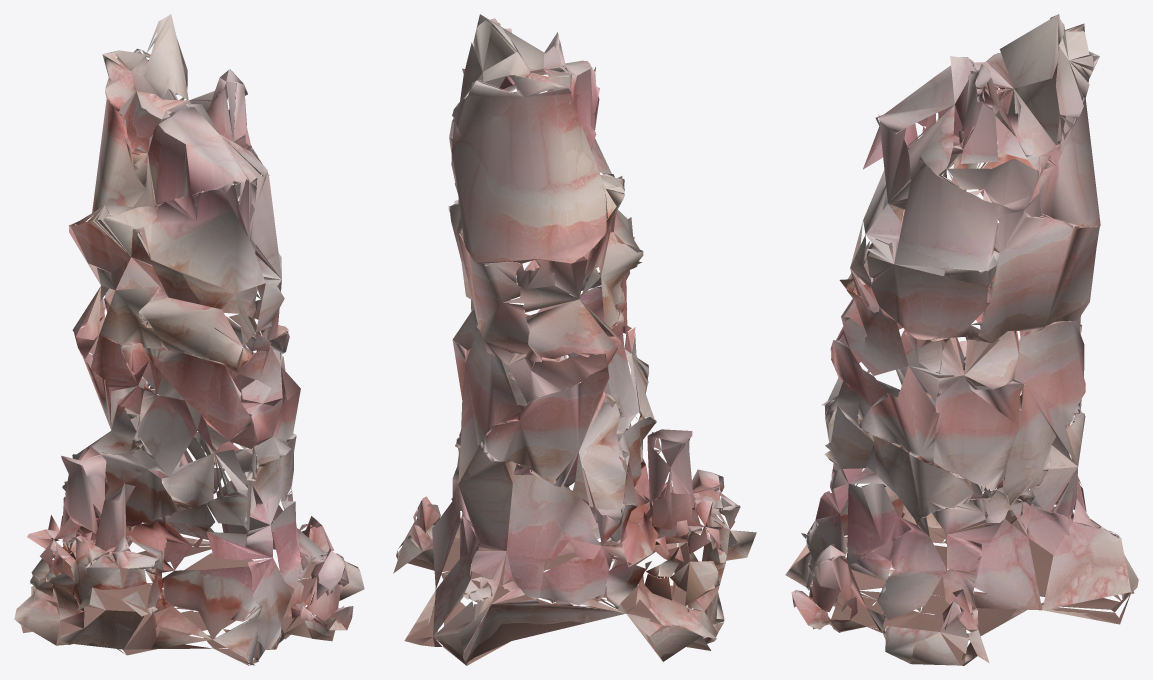
The model's file is SaltPillar.fbx.
The picture shows the model from 3 angles, left to right: view 1: azimuth 30°, elevation 25°; view 2: azimuth 150°, elevation 25°; view 3: azimuth 270°, elevation 25°; orthographic projection. The views are drawn at different scales.
Parts seen in each view (by area): view 1: SaltPillar_Body; view 2: SaltPillar_Body; view 3: SaltPillar_Body.
Part boxes in pixels (x1,y1,x2,y2): SaltPillar_Body: (14,14,364,665); SaltPillar_Body: (393,14,756,665); SaltPillar_Body: (785,14,1138,665).
Size of the model in its own units: 0.5721 by 1 by 0.5362.
1 material, 1 textured.
